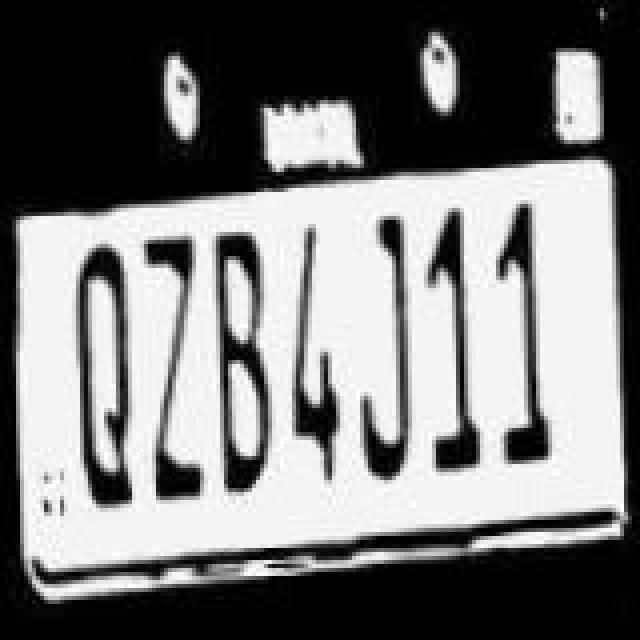1: (486, 194, 558, 466), (418, 202, 490, 474)
4: (280, 220, 352, 492)
B: (204, 222, 276, 498)
J: (350, 210, 426, 482)
Q: (68, 236, 140, 512)
Z: (134, 230, 210, 514)
